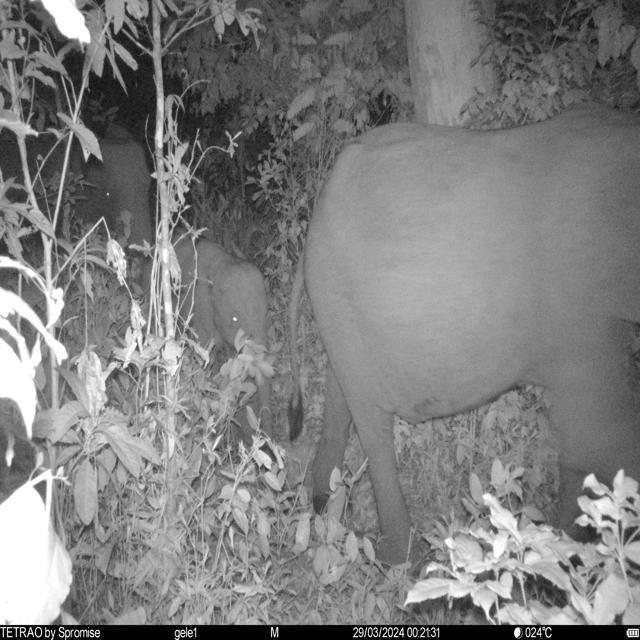calf: (172, 228, 274, 444)
elephant: (287, 103, 640, 563), (28, 120, 152, 262)
